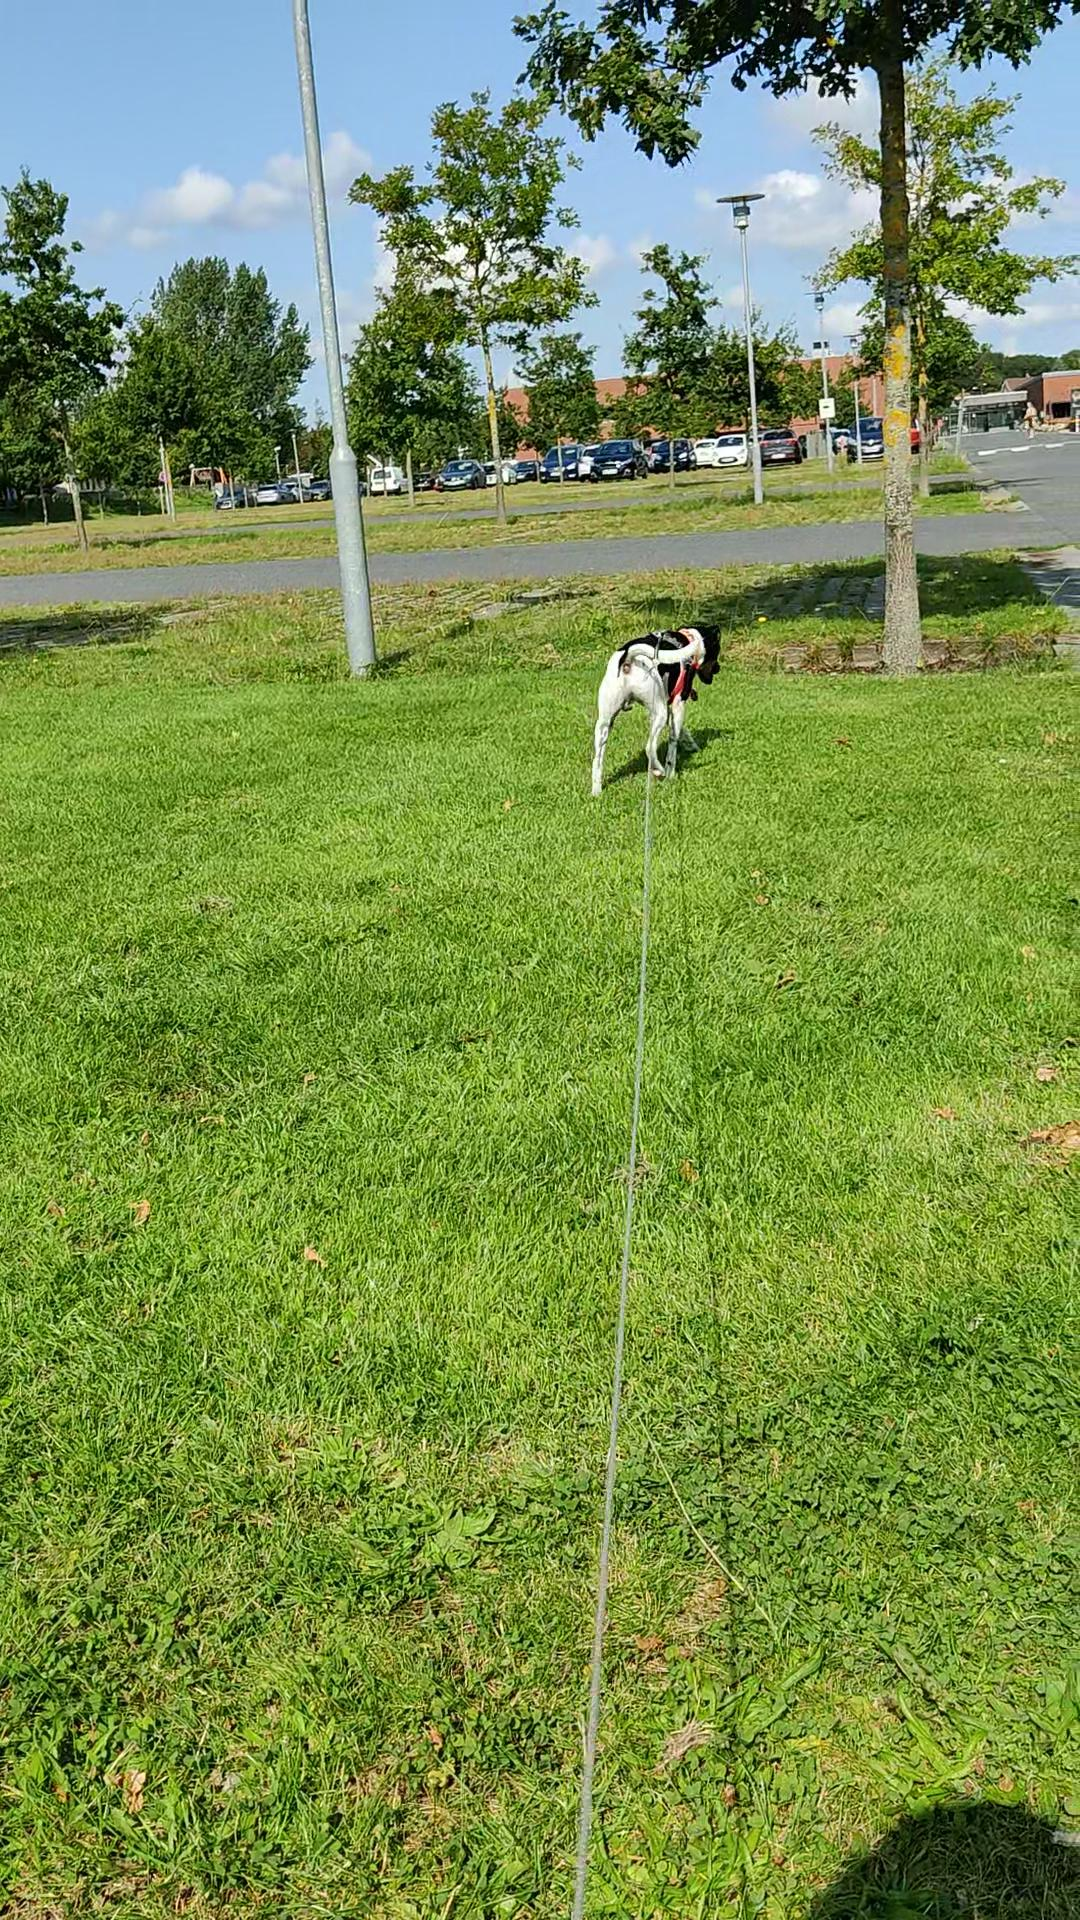Dog: (574, 609, 738, 800)
